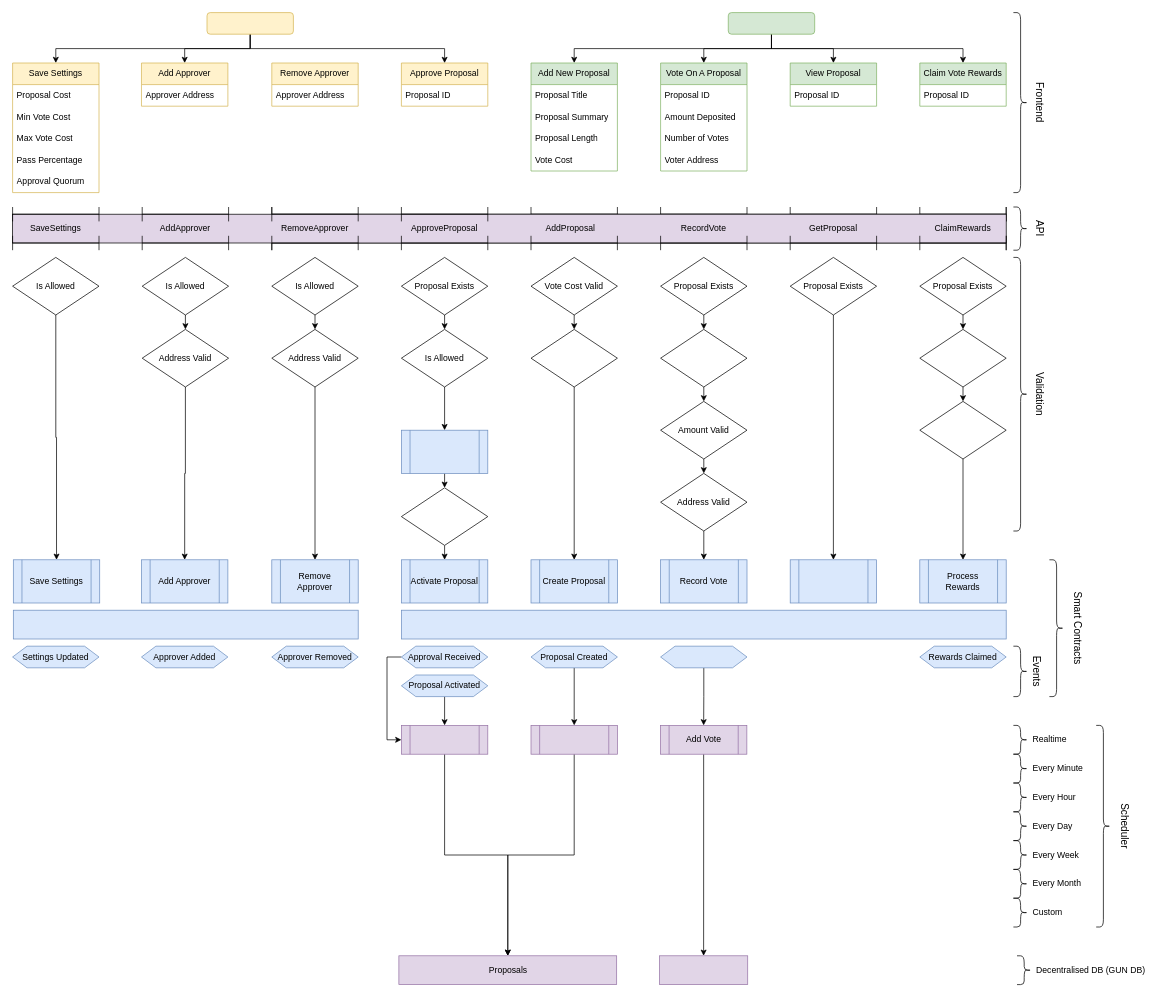
The diagram is 1170 pixels wide and 997 high, and some of its shapes have lost their labels. The shapes that lost their labels are listed below. From the top down, each one's centre as x and y in pixels, then its label:
At [249,23]: "Admin".
At [771,23]: "End User".
At [573,358]: "Proposal Length Valid".
At [703,358]: "Proposal Active".
At [962,358]: "Proposal Ended".
At [962,430]: "Address Voted".
At [444,451]: "Register Approval".
At [444,516]: "Can Activate".
At [833,581]: "Get Proposal Details".
At [185,624]: "Graphite Controller".
At [703,624]: "Proposal".
At [703,656]: "Vote Received".
At [444,739]: "Update Proposal".
At [573,739]: "Add Proposal".
At [703,970]: "Votes".
